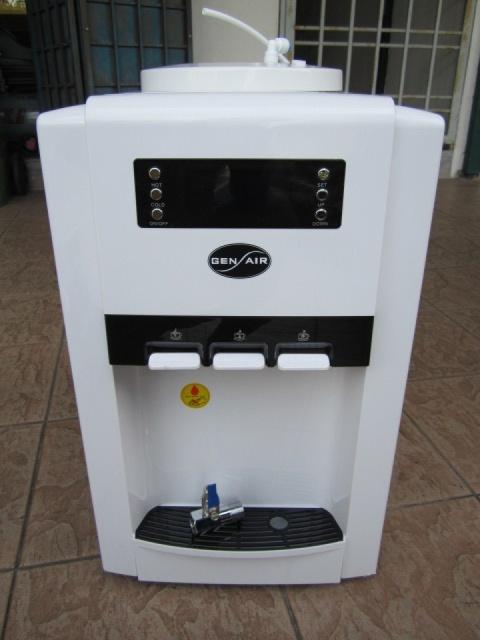Dispenser: (35, 60, 446, 586)
